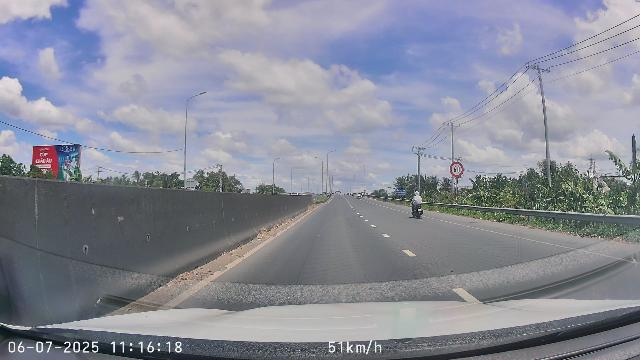127-toc-do-toi-da-60: (450, 162, 464, 177)
